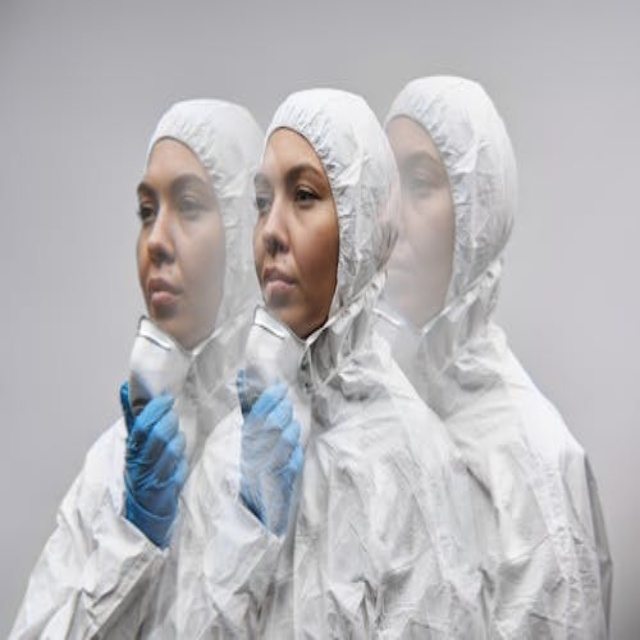Guantes: (121, 380, 187, 549), (235, 372, 303, 536), (120, 381, 136, 436)
Sin_gafas: (129, 174, 209, 220), (250, 167, 321, 213), (399, 148, 445, 201)
Sin_mascara: (138, 263, 193, 335), (252, 255, 310, 314)
